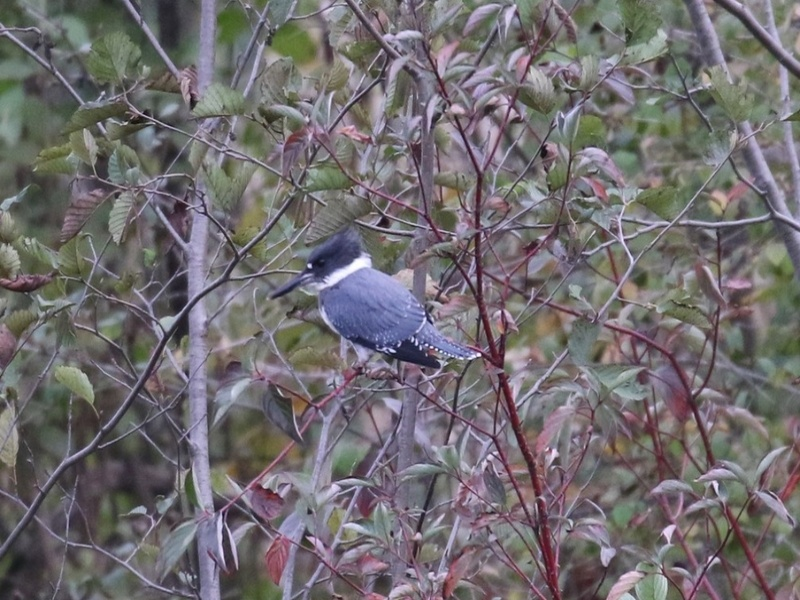kingfisher: (269, 225, 481, 370)
